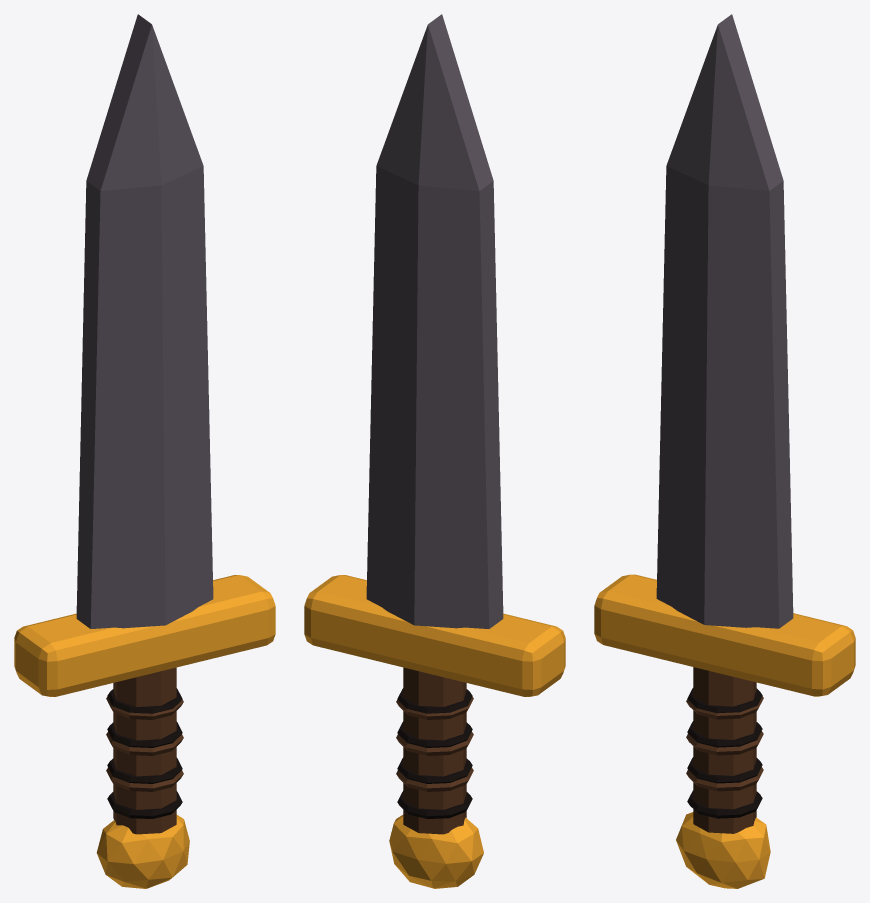
Rendered from evil_sword.glb.
3 renders of one model, left to right at view 1: azimuth 30°, elevation 25°; view 2: azimuth 150°, elevation 25°; view 3: azimuth 330°, elevation 25°, orthographic.
Visible parts, largest first — view 1: Sword broad faceted blade, Sword gold guard, Sword leather grip, Sword pommel, Sword grip wrap, Sword grip wrap.002, Sword grip wrap.001, Woodland equipment worn binding, Woodland equipment worn binding.001, Sword grip wrap.003; view 2: Sword broad faceted blade, Sword gold guard, Sword leather grip, Sword pommel, Sword grip wrap, Sword grip wrap.002, Sword grip wrap.001, Woodland equipment worn binding, Woodland equipment worn binding.001, Sword grip wrap.003; view 3: Sword broad faceted blade, Sword gold guard, Sword leather grip, Sword pommel, Sword grip wrap, Sword grip wrap.002, Sword grip wrap.001, Sword grip wrap.003, Woodland equipment worn binding, Woodland equipment worn binding.001.
Boxes of the visible parts, x1=… form: Sword broad faceted blade: x1=76, y1=14, x2=213, y2=628; Sword gold guard: x1=14, y1=575, x2=275, y2=696; Sword leather grip: x1=113, y1=667, x2=176, y2=834; Sword pommel: x1=96, y1=815, x2=189, y2=888; Sword grip wrap: x1=107, y1=791, x2=182, y2=818; Sword grip wrap.002: x1=107, y1=721, x2=182, y2=747; Sword grip wrap.001: x1=107, y1=757, x2=182, y2=783; Woodland equipment worn binding: x1=106, y1=767, x2=183, y2=791; Woodland equipment worn binding.001: x1=106, y1=731, x2=183, y2=755; Sword grip wrap.003: x1=107, y1=688, x2=182, y2=713; Sword broad faceted blade: x1=366, y1=14, x2=503, y2=628; Sword gold guard: x1=304, y1=575, x2=565, y2=696; Sword leather grip: x1=403, y1=667, x2=466, y2=834; Sword pommel: x1=389, y1=815, x2=483, y2=888; Sword grip wrap: x1=397, y1=791, x2=472, y2=818; Sword grip wrap.002: x1=397, y1=721, x2=472, y2=747; Sword grip wrap.001: x1=397, y1=757, x2=472, y2=783; Woodland equipment worn binding: x1=396, y1=767, x2=473, y2=791; Woodland equipment worn binding.001: x1=396, y1=731, x2=473, y2=755; Sword grip wrap.003: x1=397, y1=688, x2=472, y2=713; Sword broad faceted blade: x1=656, y1=14, x2=793, y2=628; Sword gold guard: x1=594, y1=574, x2=855, y2=696; Sword leather grip: x1=693, y1=667, x2=756, y2=833; Sword pommel: x1=676, y1=812, x2=770, y2=888; Sword grip wrap: x1=687, y1=790, x2=762, y2=818; Sword grip wrap.002: x1=687, y1=721, x2=762, y2=747; Sword grip wrap.001: x1=687, y1=757, x2=762, y2=783; Sword grip wrap.003: x1=687, y1=688, x2=762, y2=713; Woodland equipment worn binding: x1=686, y1=767, x2=763, y2=791; Woodland equipment worn binding.001: x1=686, y1=731, x2=763, y2=755.
Bounding box in the file's own units: 0.48 × 1.69 × 0.146.
